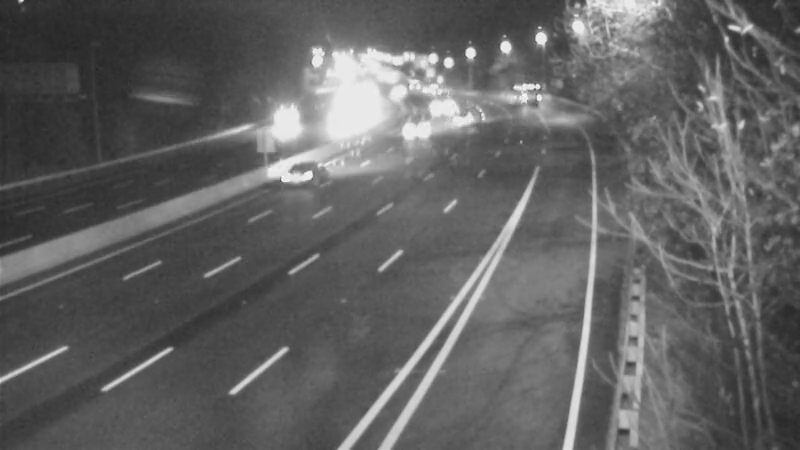vehicle: (266, 130, 346, 210), (502, 68, 552, 118), (421, 87, 471, 137), (444, 91, 494, 141), (392, 106, 442, 156), (261, 91, 311, 141)
